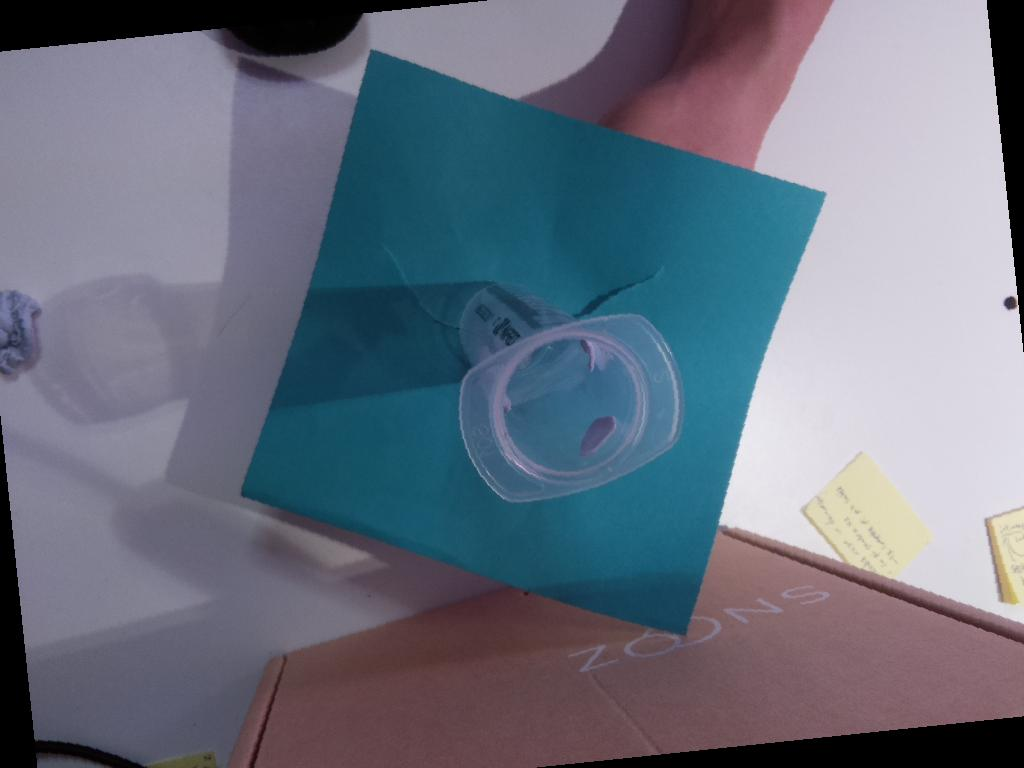dirty: (458, 313, 685, 503)
